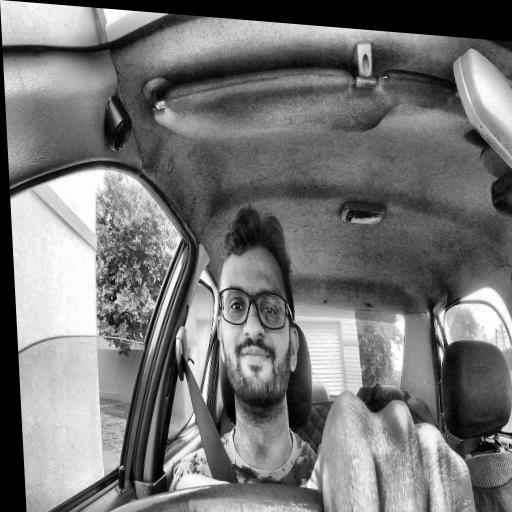awake: (210, 203, 303, 415)
